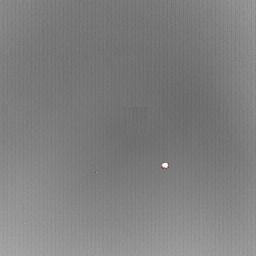Target: (160, 161, 169, 170)
